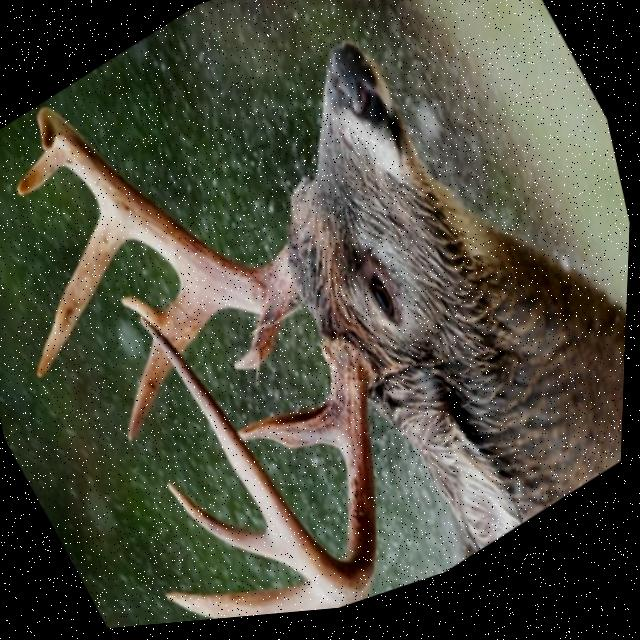L-F: (140, 317, 381, 606)
L-G1: (242, 403, 344, 455)
L-G3: (169, 586, 351, 623)
L-G4: (170, 483, 293, 570)
R-F: (35, 105, 303, 317)
R-G1: (235, 297, 291, 374)
R-G3: (39, 209, 131, 379)
R-G4: (17, 142, 66, 195)
